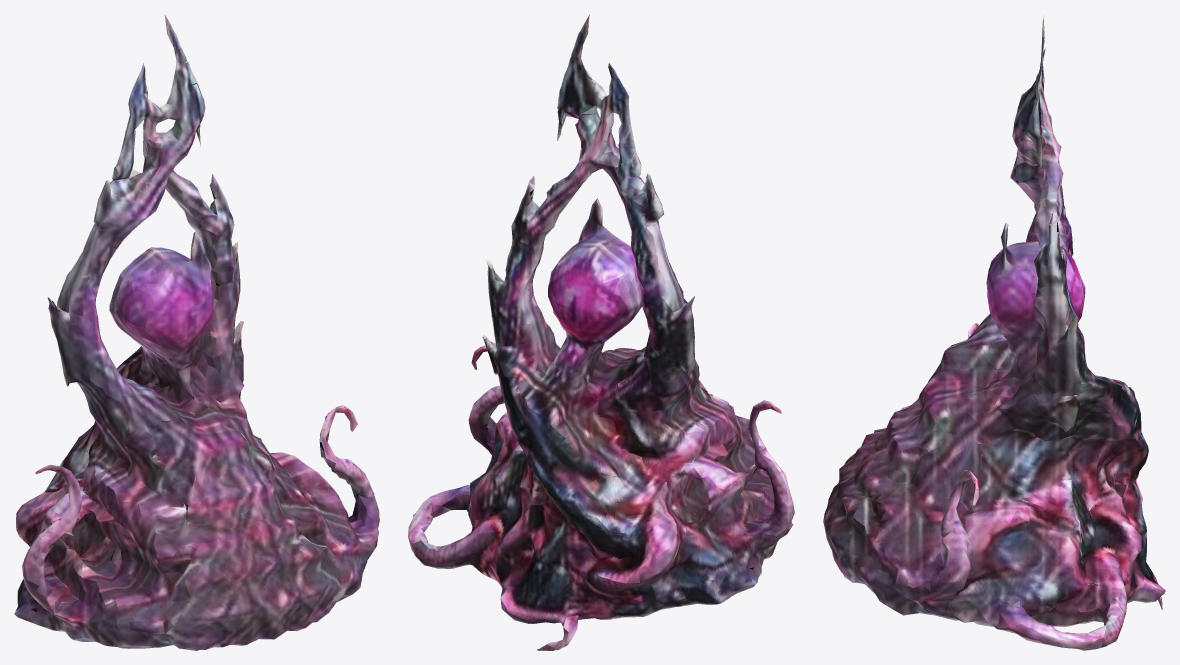
The model's file is umbral_flagship.glb.
3 renders of one model, left to right at view 1: azimuth 30°, elevation 25°; view 2: azimuth 150°, elevation 25°; view 3: azimuth 270°, elevation 25°, orthographic. The views are drawn at different scales.
Parts seen in each view (by area): view 1: geometry_0; view 2: geometry_0; view 3: geometry_0.
Part boxes in pixels (x1,y1,x2,y2): geometry_0: [14, 14, 379, 650]; geometry_0: [408, 14, 794, 650]; geometry_0: [823, 14, 1165, 650].
Size of the model in its own units: 0.5306 by 0.8854 by 0.4581.
Materials: 1 (1 with a texture image).
